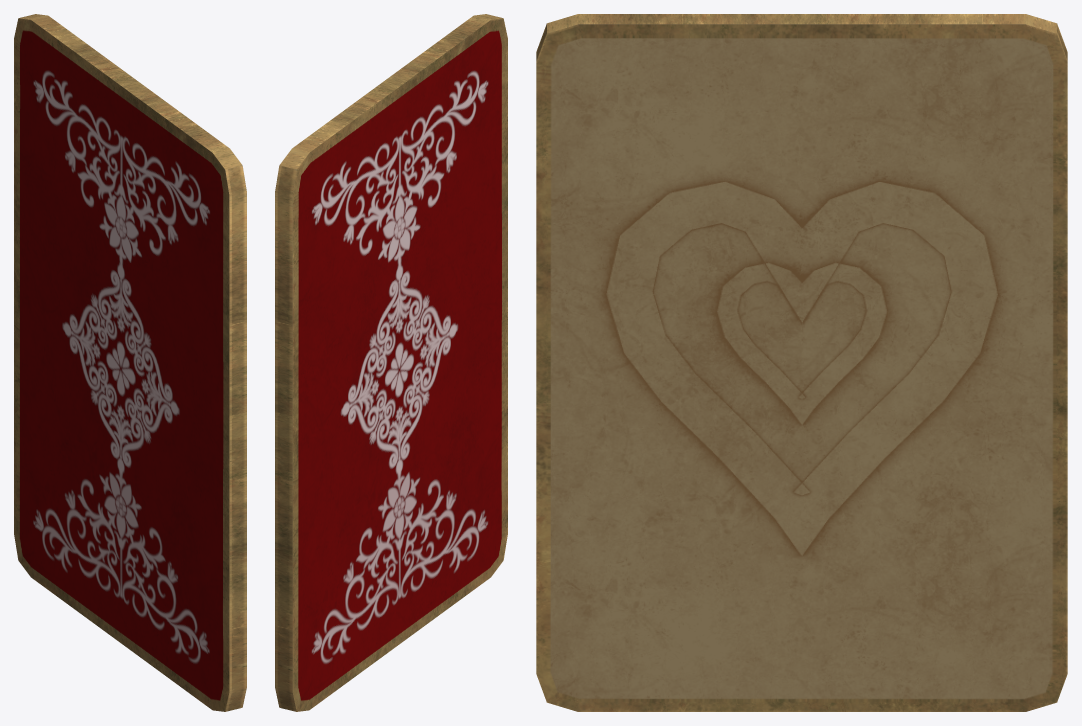
File: card 1.FBX
3 renders of one model, left to right at view 1: azimuth 30°, elevation 25°; view 2: azimuth 150°, elevation 25°; view 3: azimuth 270°, elevation 25°, orthographic. The views are drawn at different scales.
Visible parts, largest first — view 1: SuperBox; view 2: SuperBox; view 3: SuperBox.
Boxes of the visible parts, x1,y1,x2,y2 form: SuperBox: [14, 14, 246, 711]; SuperBox: [275, 14, 507, 711]; SuperBox: [536, 14, 1067, 711].
Size of the model in its own units: 3.12 by 95.34 by 66.74.
